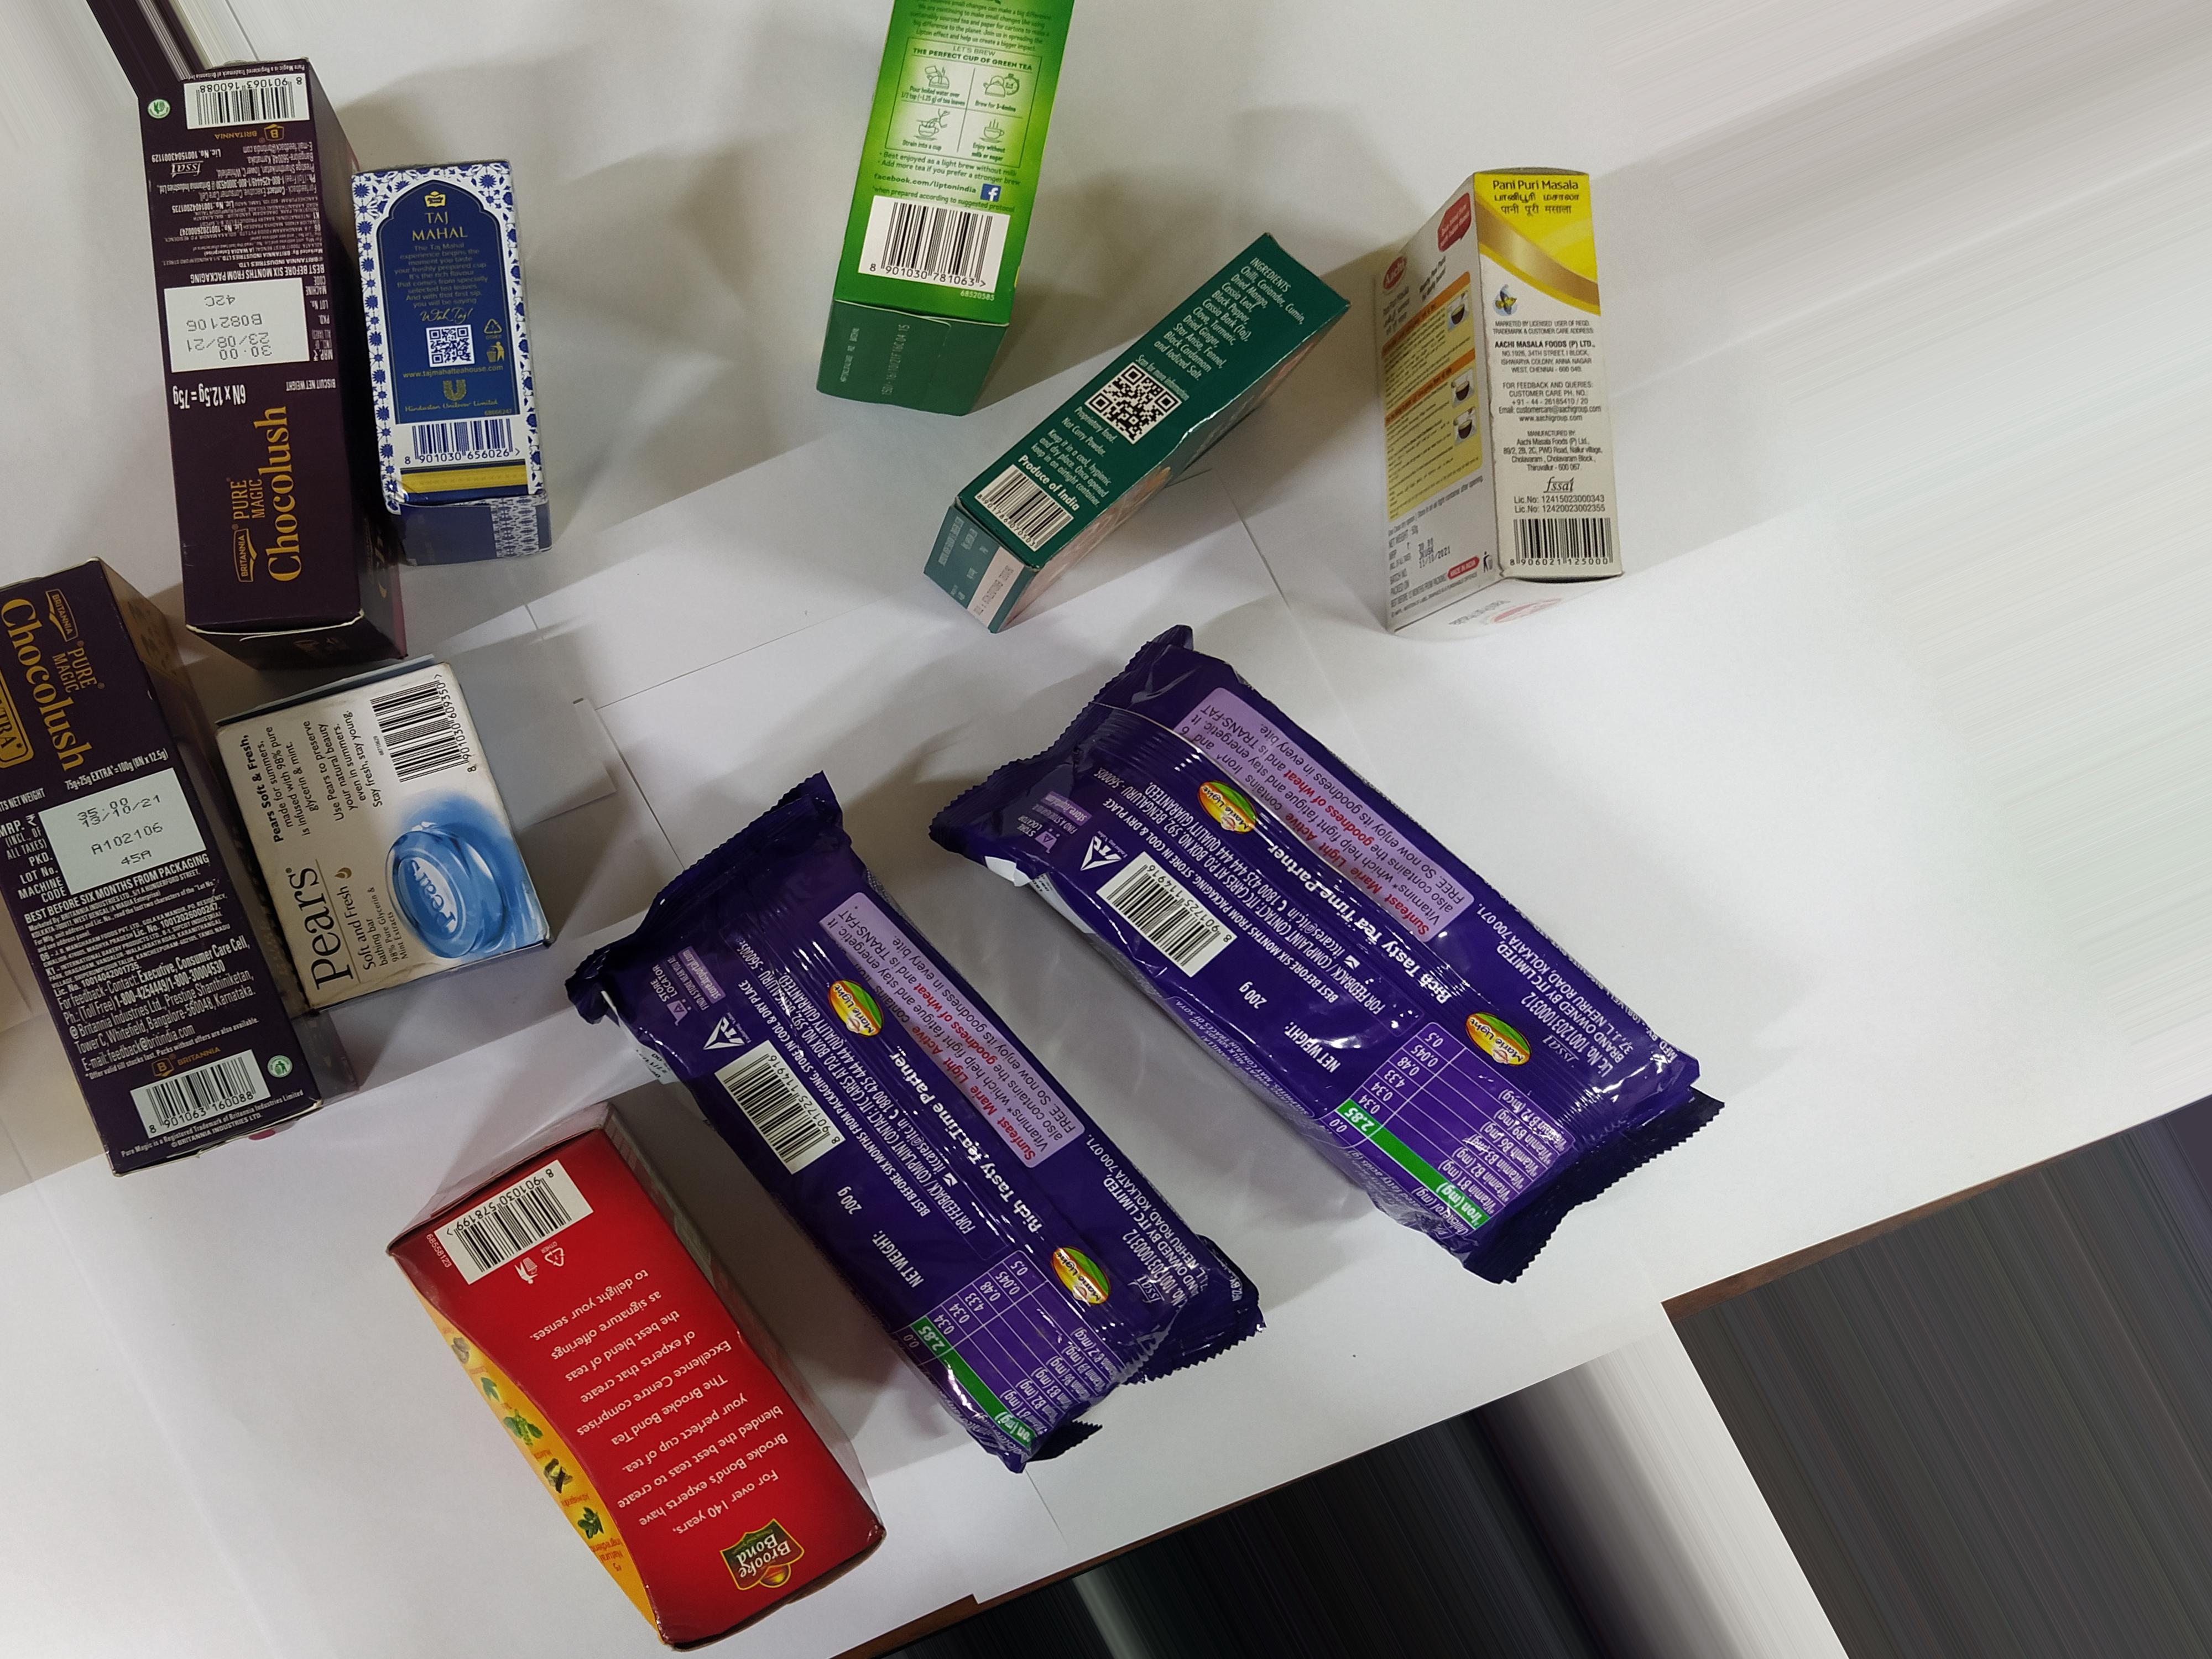Bar_code: (402, 1143, 611, 1284), (704, 1035, 871, 1183), (1087, 836, 1238, 979), (348, 657, 484, 805), (853, 190, 1017, 301), (960, 462, 1089, 568), (127, 1054, 291, 1138), (165, 58, 320, 139), (1503, 504, 1639, 592), (387, 411, 529, 474)
Item: (927, 652, 1750, 1302), (590, 800, 1287, 1518), (383, 1126, 916, 1643), (0, 540, 368, 1206), (101, 40, 421, 673), (1348, 159, 1662, 662), (953, 268, 1360, 634), (188, 650, 564, 997), (324, 155, 582, 587), (803, 0, 1049, 420)
QR_code: (1090, 364, 1188, 451), (423, 324, 488, 376)
